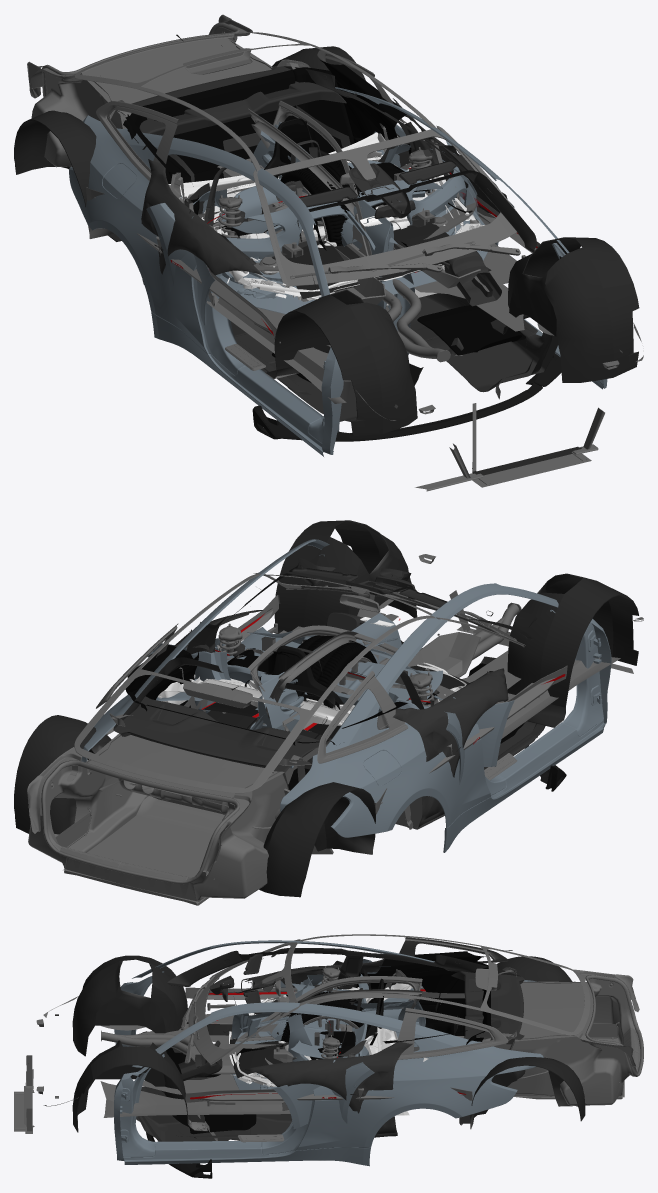
The model's file is bmw-m4-csl.glb.
3 renders of one model, top to bottom at view 1: azimuth 30°, elevation 25°; view 2: azimuth 150°, elevation 25°; view 3: azimuth 270°, elevation 25°, orthographic. The views are drawn at different scales.
Visible parts, largest first — view 1: M4xNME_body, M4xNME_interior_csl, M4xNME_tubs, M4xNME_bumper_F, M4xNME_fenderint, M4xNME_enginebay, M4xNME_splitter_F_csl, M4xNME_door_FR, M4xNME_roof_carbon, M4xNME_sideskirt, M4xNME_hood_csl, M4xNME_exhaust (+9 smaller); view 2: M4xNME_body, M4xNME_tubs, M4xNME_interior_csl, M4xNME_fenderint, M4xNME_door_FR, M4xNME_bumper_R, M4xNME_heatshield, M4xNME_trunk_csl, M4xNME_exhaust, M4xNME_sideskirt, M4xNME_enginebay, M4xNME_door_FL (+7 smaller); view 3: M4xNME_body, M4xNME_interior_csl, M4xNME_tubs, M4xNME_fenderint, M4xNME_sideskirt, M4xNME_door_FR, M4xNME_bumper_F, M4xNME_door_FL, M4xNME_enginebay, M4xNME_bumper_R, M4xNME_trunk_csl, M4xNME_exhaust (+10 smaller).
Boxes of the visible parts, left/top/right/bottom form: M4xNME_body: left=27, top=14, right=643, bottom=491; M4xNME_interior_csl: left=115, top=60, right=557, bottom=421; M4xNME_tubs: left=14, top=46, right=639, bottom=435; M4xNME_bumper_F: left=146, top=140, right=466, bottom=291; M4xNME_fenderint: left=141, top=98, right=499, bottom=284; M4xNME_enginebay: left=168, top=132, right=484, bottom=305; M4xNME_splitter_F_csl: left=154, top=34, right=561, bottom=441; M4xNME_door_FR: left=251, top=101, right=393, bottom=309; M4xNME_roof_carbon: left=272, top=223, right=449, bottom=298; M4xNME_sideskirt: left=86, top=133, right=540, bottom=343; M4xNME_hood_csl: left=181, top=131, right=487, bottom=314; M4xNME_exhaust: left=382, top=279, right=450, bottom=362; M4xNME_body: left=27, top=539, right=643, bottom=905; M4xNME_tubs: left=14, top=520, right=638, bottom=897; M4xNME_interior_csl: left=113, top=557, right=545, bottom=829; M4xNME_fenderint: left=148, top=610, right=508, bottom=827; M4xNME_door_FR: left=248, top=613, right=401, bottom=731; M4xNME_bumper_R: left=185, top=647, right=514, bottom=767; M4xNME_heatshield: left=357, top=609, right=480, bottom=677; M4xNME_trunk_csl: left=227, top=627, right=442, bottom=712; M4xNME_exhaust: left=99, top=602, right=521, bottom=828; M4xNME_sideskirt: left=106, top=595, right=567, bottom=814; M4xNME_enginebay: left=158, top=662, right=466, bottom=731; M4xNME_door_FL: left=249, top=631, right=362, bottom=729; M4xNME_body: left=14, top=934, right=643, bottom=1166; M4xNME_interior_csl: left=136, top=948, right=524, bottom=1141; M4xNME_tubs: left=72, top=955, right=585, bottom=1132; M4xNME_fenderint: left=245, top=958, right=412, bottom=1137; M4xNME_sideskirt: left=185, top=987, right=472, bottom=1102; M4xNME_door_FR: left=232, top=989, right=425, bottom=1038; M4xNME_bumper_F: left=286, top=958, right=374, bottom=1123; M4xNME_door_FL: left=235, top=966, right=422, bottom=1046; M4xNME_enginebay: left=229, top=983, right=428, bottom=1089; M4xNME_bumper_R: left=272, top=965, right=369, bottom=1129; M4xNME_trunk_csl: left=290, top=983, right=367, bottom=1058; M4xNME_exhaust: left=101, top=1030, right=548, bottom=1078.
Size of the model in its own units: 59245 by 40730 by 141302.
